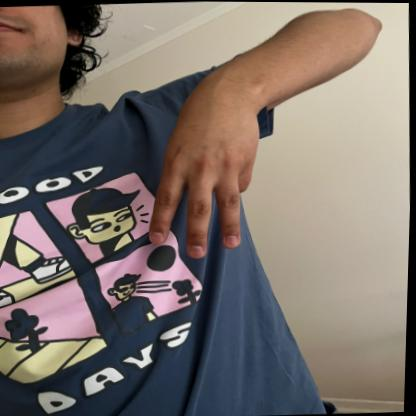M: (142, 74, 267, 260)
